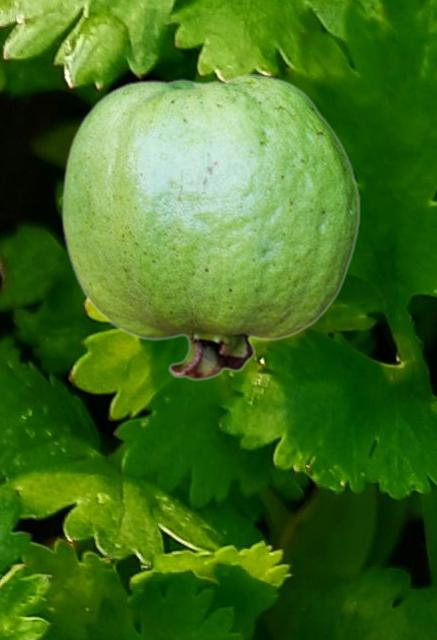guava: (61, 74, 360, 380)
